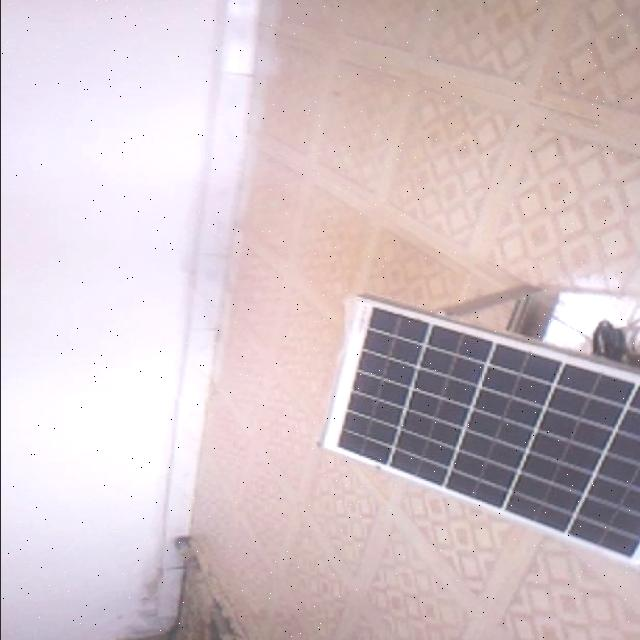Normal Solar Panel: (321, 296, 640, 566)
